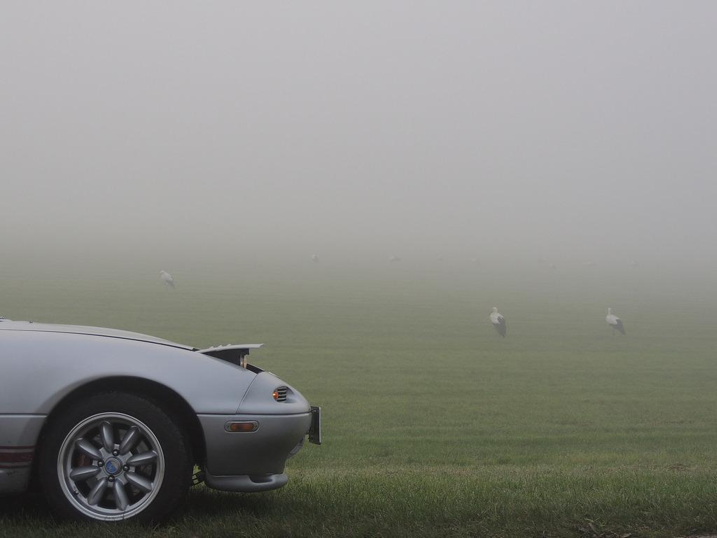car: (1, 316, 326, 529)
